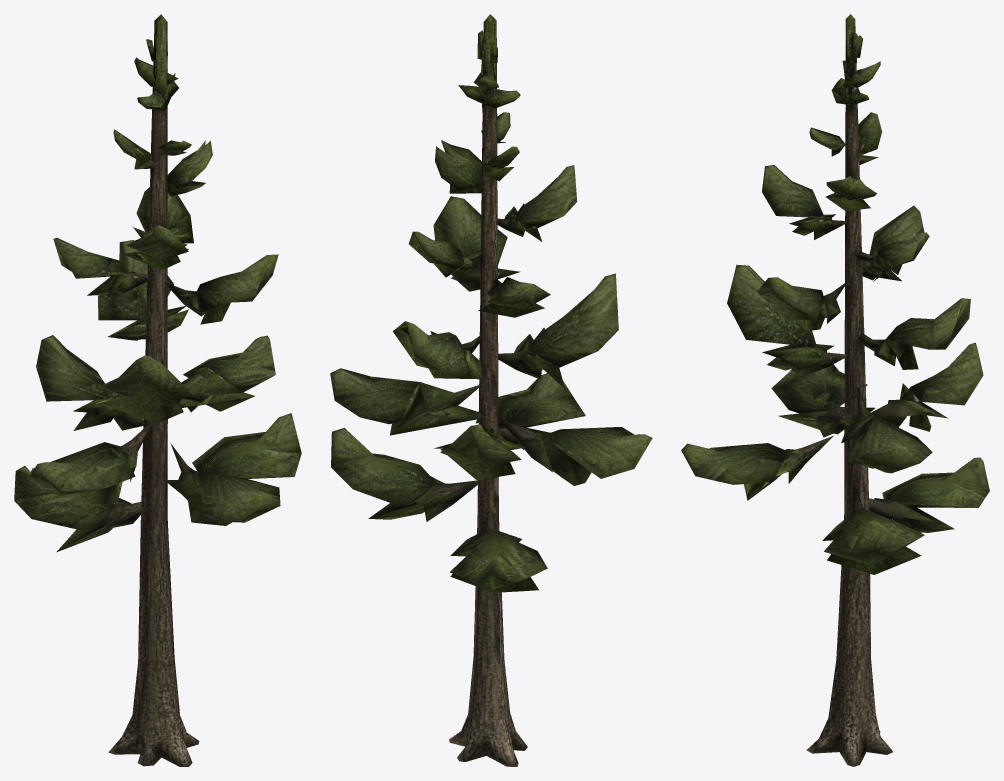
File: low-poly+tree+3d+model.glb
3 views of the same model, side by side, from view 1: azimuth 30°, elevation 25°; view 2: azimuth 150°, elevation 25°; view 3: azimuth 270°, elevation 25° (orthographic).
Visible parts, largest first — view 1: tripo_node_46bd7b6c-68b6-4866-9648-d463643e2cb5; view 2: tripo_node_46bd7b6c-68b6-4866-9648-d463643e2cb5; view 3: tripo_node_46bd7b6c-68b6-4866-9648-d463643e2cb5.
Boxes of the visible parts, left/top/right/bottom form: tripo_node_46bd7b6c-68b6-4866-9648-d463643e2cb5: left=14, top=14, right=301, bottom=766; tripo_node_46bd7b6c-68b6-4866-9648-d463643e2cb5: left=330, top=14, right=652, bottom=766; tripo_node_46bd7b6c-68b6-4866-9648-d463643e2cb5: left=681, top=14, right=989, bottom=766.
Size of the model in its own units: 0.4082 by 0.998 by 0.3809.
Materials: 1 (1 with a texture image).
